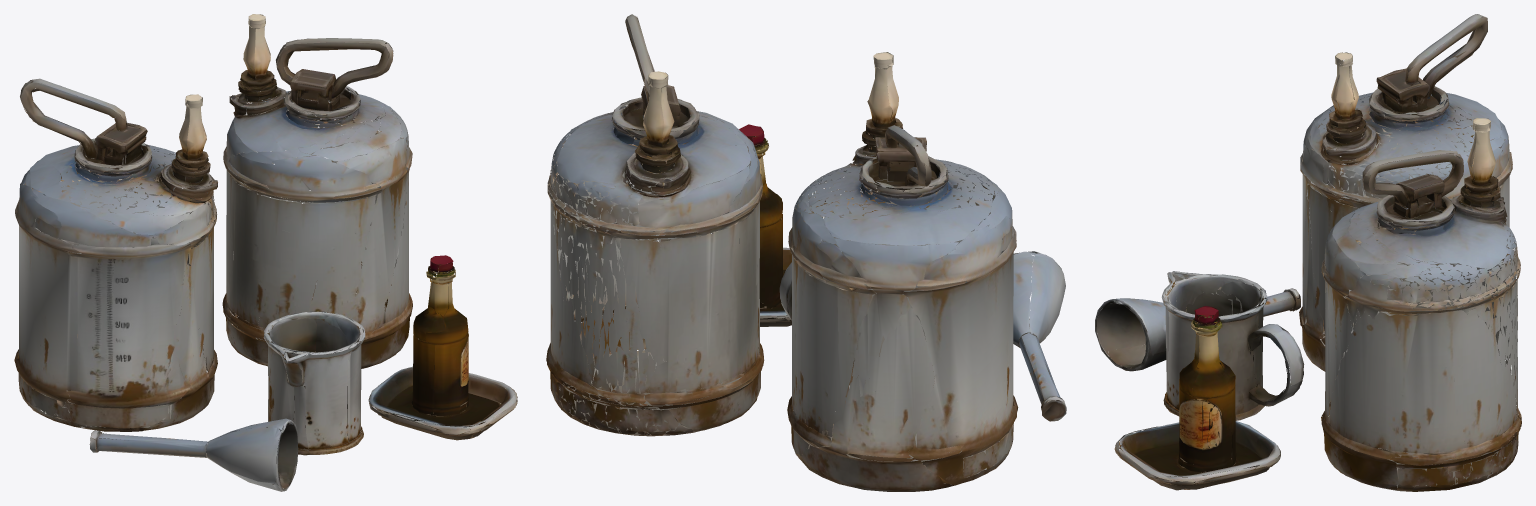
Rendered from prop-oil-container-set.glb.
The picture shows the model from 3 angles, left to right: view 1: azimuth 30°, elevation 25°; view 2: azimuth 150°, elevation 25°; view 3: azimuth 270°, elevation 25°; orthographic projection. The views are drawn at different scales.
Visible parts, largest first — view 1: prop-oil-container-set; view 2: prop-oil-container-set; view 3: prop-oil-container-set.
Part boxes in pixels (x1=…): prop-oil-container-set: x1=14, y1=14, x2=517, y2=491; prop-oil-container-set: x1=546, y1=14, x2=1066, y2=491; prop-oil-container-set: x1=1095, y1=14, x2=1521, y2=491.
Size of the model in its own units: 1.27 by 0.9936 by 1.2.
Materials: 1 (1 with a texture image).
